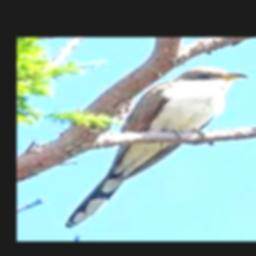Cuckoo: (64, 66, 246, 227)
